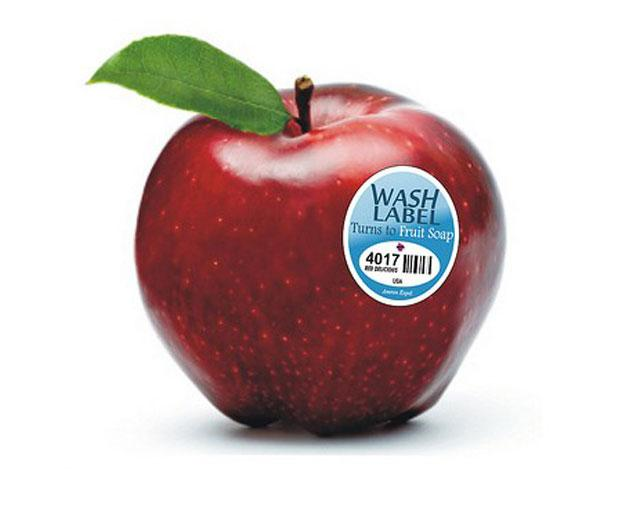fruit_apple: (80, 32, 509, 443)
